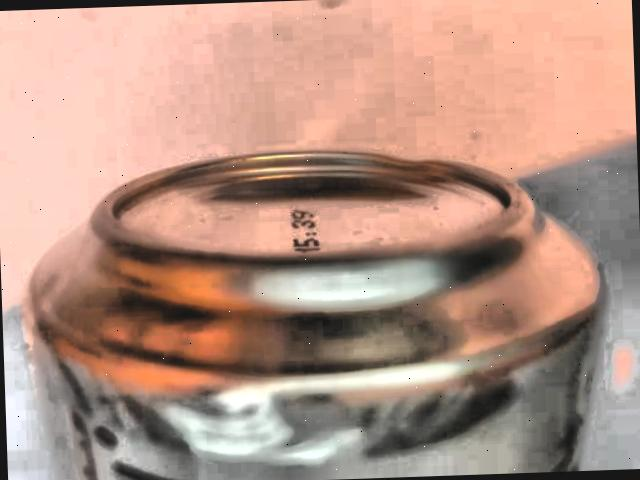Bottles: (6, 115, 628, 480)
